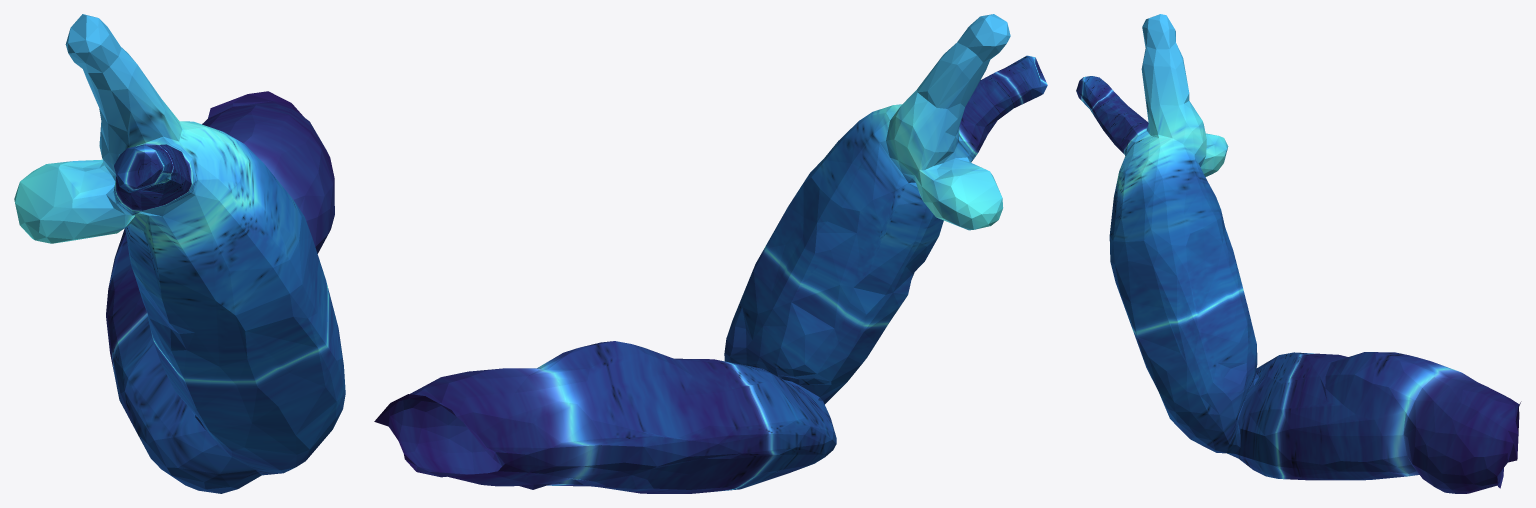
File: BIAvatar.obj
3 views of the same model, side by side, from view 1: azimuth 30°, elevation 25°; view 2: azimuth 150°, elevation 25°; view 3: azimuth 270°, elevation 25° (orthographic). The views are drawn at different scales.
Parts seen in each view (by area): view 1: BIAvatar; view 2: BIAvatar; view 3: BIAvatar.
Part boxes in pixels (<box>): BIAvatar: <box>14,14,345,493</box>; BIAvatar: <box>374,14,1047,493</box>; BIAvatar: <box>1076,14,1521,493</box>.
Bounding box in the file's own units: 0.4918 × 0.5107 × 0.5377.
